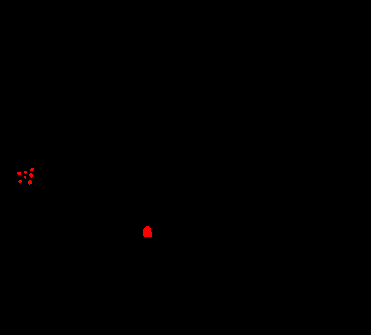Target: (143, 226, 152, 237), (29, 173, 33, 178), (28, 180, 32, 185), (30, 168, 34, 171), (17, 172, 21, 175), (18, 180, 22, 183), (24, 171, 27, 174), (24, 176, 26, 179)
